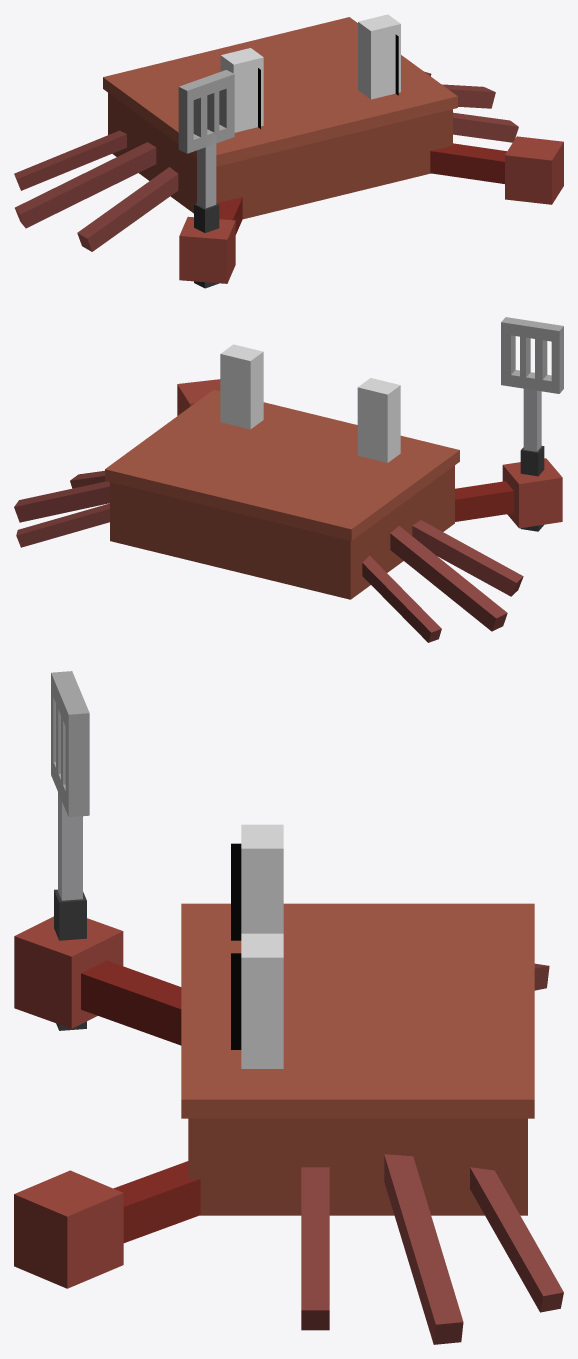
File: crab.glb
3 views of the same model, one above another, from view 1: azimuth 30°, elevation 25°; view 2: azimuth 150°, elevation 25°; view 3: azimuth 270°, elevation 25° (orthographic). The views are drawn at different scales.
Parts seen in each view (by area): view 1: crab-body; view 2: crab-body; view 3: crab-body.
Boxes of the visible parts, x1,y1,x2,y2 form: crab-body: (14,14,563,288); crab-body: (14,317,563,642); crab-body: (14,671,563,1344).
Bounding box in the file's own units: 2.15 × 0.8792 × 1.3.
